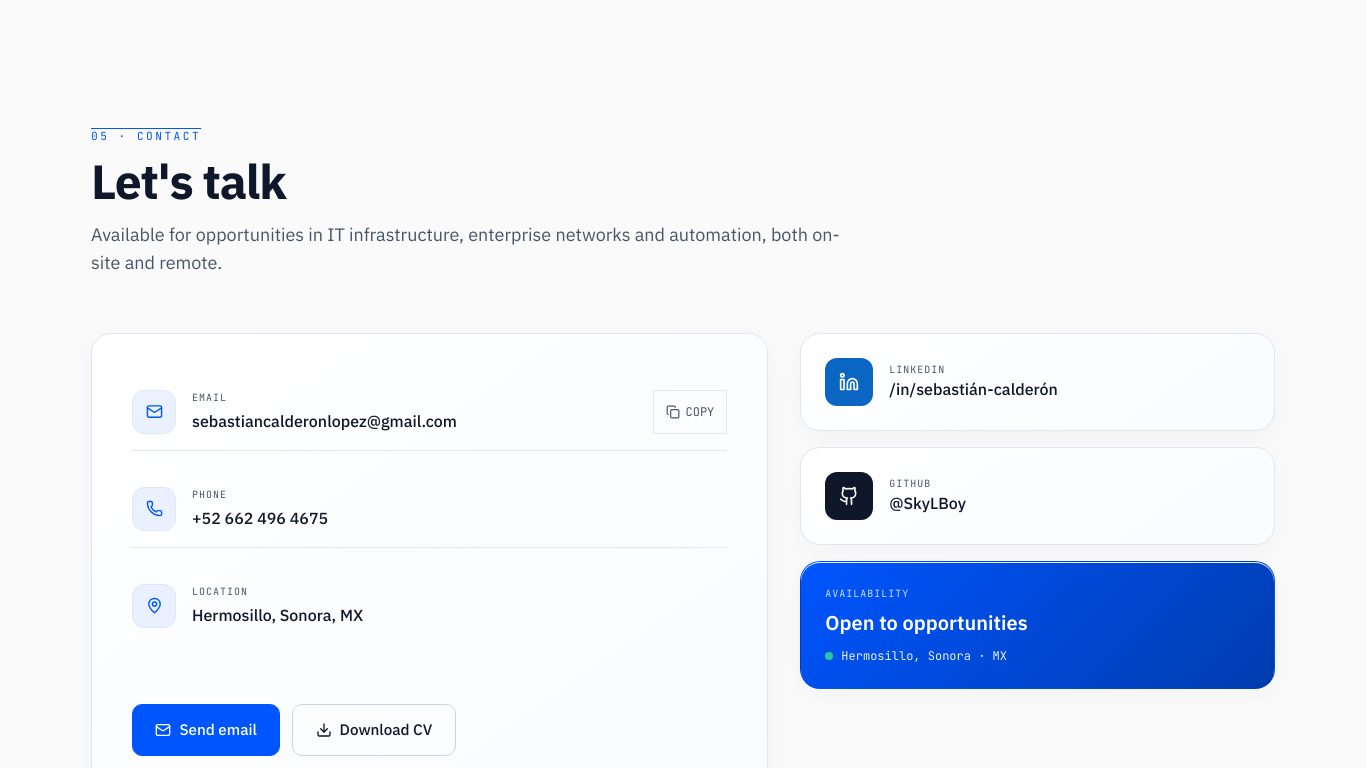
Test: Experiencia, especialidades y contacto › copia el correo y anuncia el resultado en en
The width and height of the screenshot is (1366, 768).
Click the button with test id "contact-copy-email" at (690, 412), box [652,390,727,434]
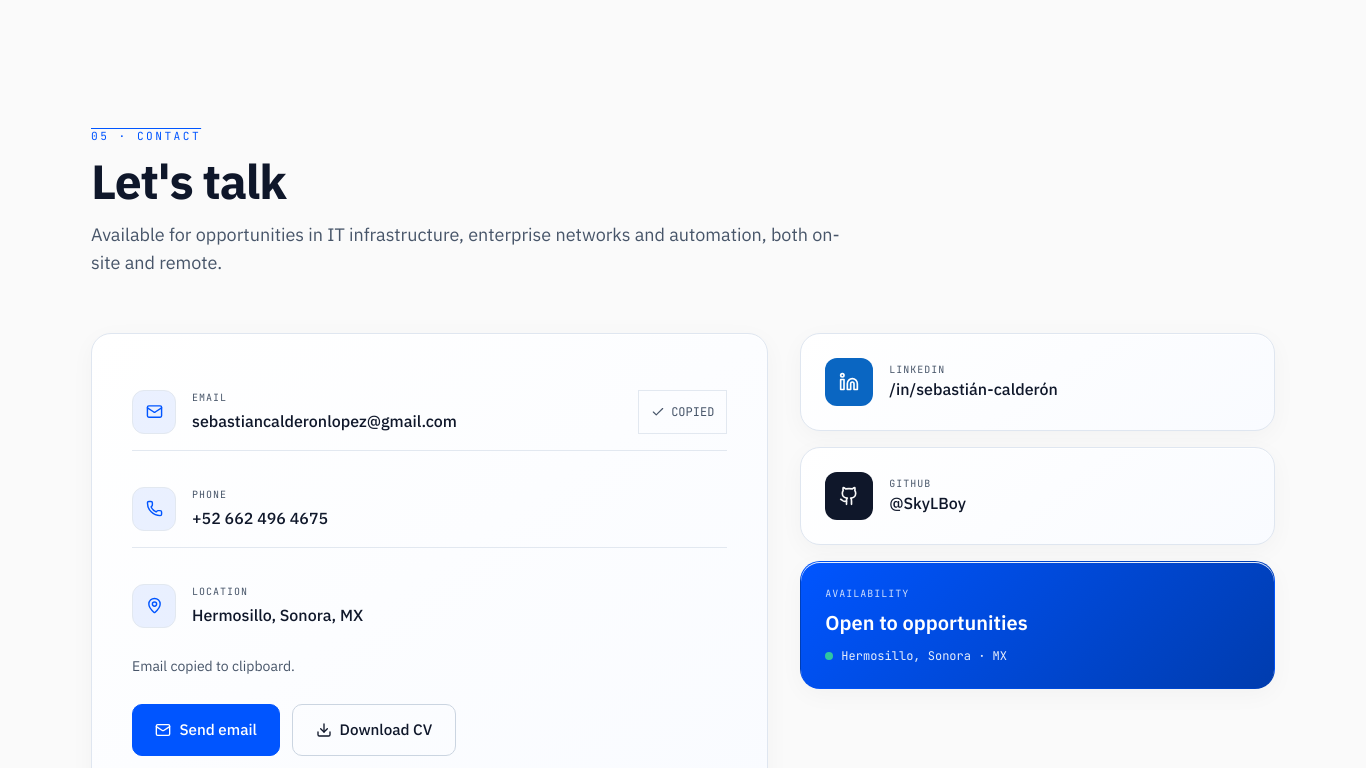
Expected: the button with test id "contact-copy-email" is enabled, [638,390,727,434]
Expected: the message "Email copied to clipboard." is shown, [132,657,295,675]
